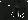person: (13, 6, 19, 17)
